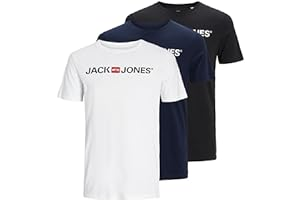design: (84, 64, 154, 75)
